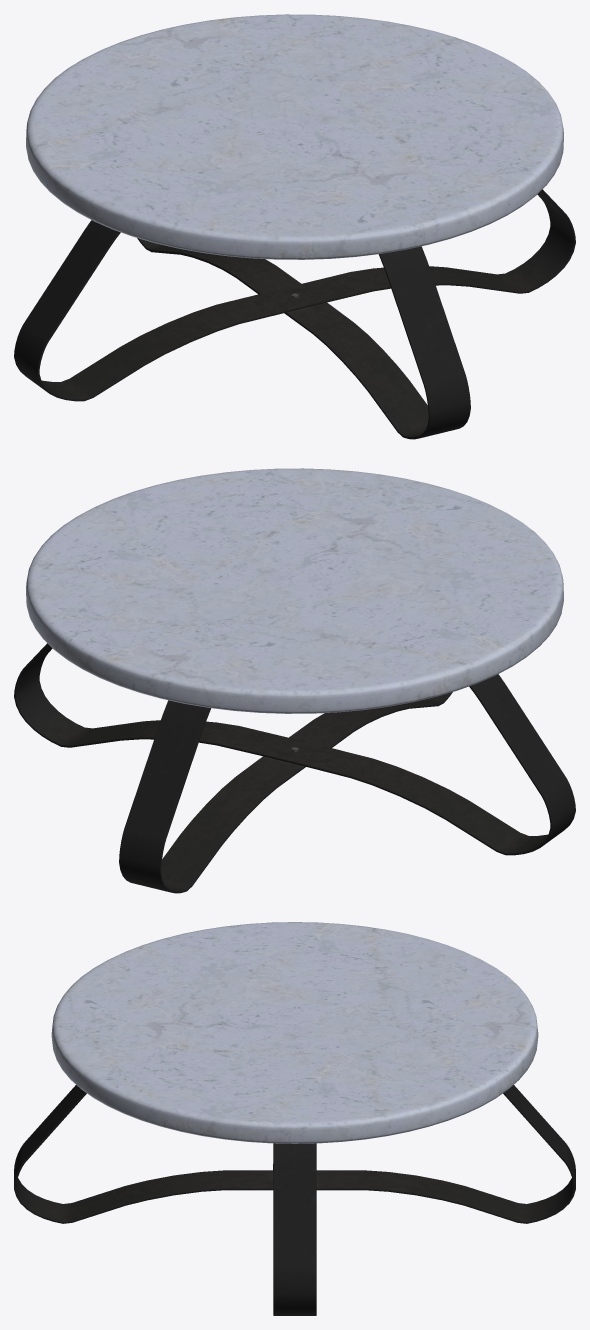
File: coffee-table-round-steel.glb
3 views of the same model, one above another, from view 1: azimuth 30°, elevation 25°; view 2: azimuth 150°, elevation 25°; view 3: azimuth 270°, elevation 25° (orthographic). The views are drawn at different scales.
Parts seen in each view (by area): view 1: coffee-table-round-steel; view 2: coffee-table-round-steel; view 3: coffee-table-round-steel.
Part boxes in pixels (x1=…): coffee-table-round-steel: x1=14, y1=14, x2=575, y2=439; coffee-table-round-steel: x1=14, y1=468, x2=575, y2=893; coffee-table-round-steel: x1=14, y1=922, x2=575, y2=1315.
Bounding box in the file's own units: 1.3 × 0.491 × 1.3.
2 materials, 2 textured.
